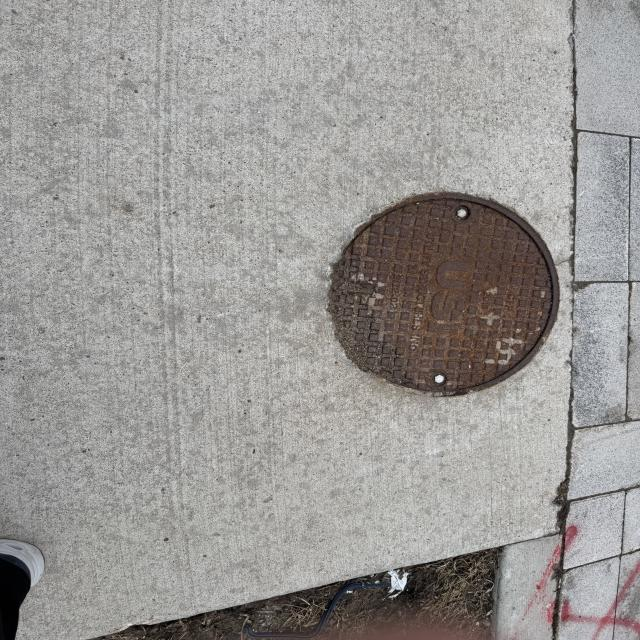Manhole: (316, 183, 564, 405)
